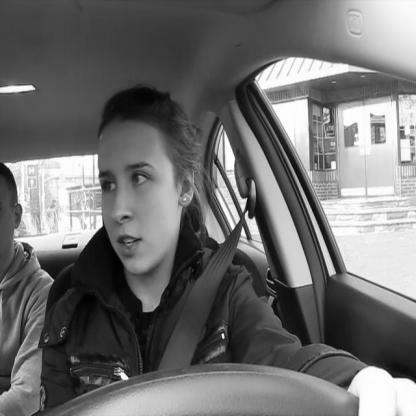seatbelt: (96, 84, 260, 414)
